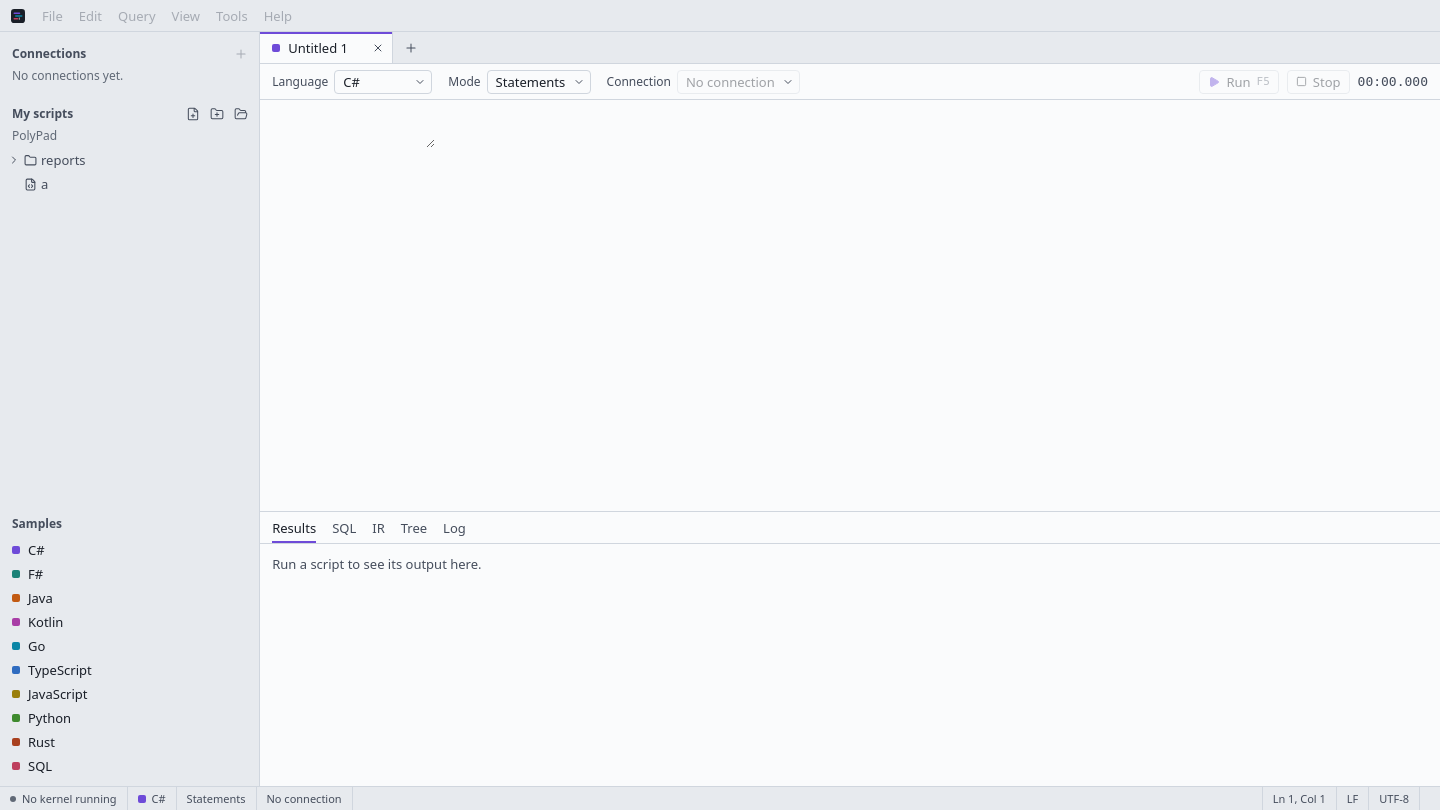
it: the scripts folder › moves a script into a folder chosen in a dialog
This screenshot has width=1440, height=810.
Clear the text box named "Editor text" at (348, 128), box 260,108 -> 435,148
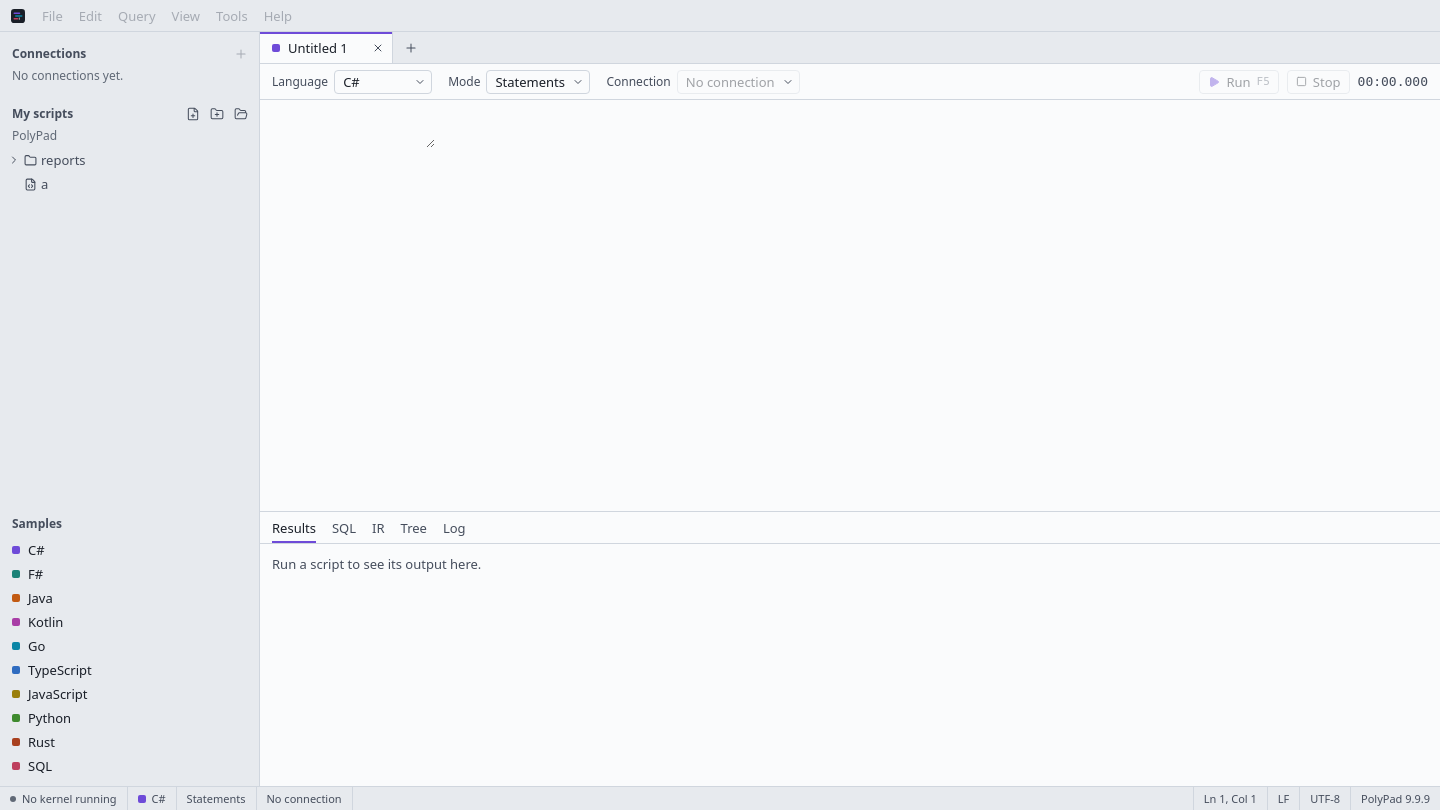
Expected: the element named "Open scripts" is shown, 260,32 -> 393,63
Right-click the list item "a" at (36, 184), box 24,175 -> 48,193
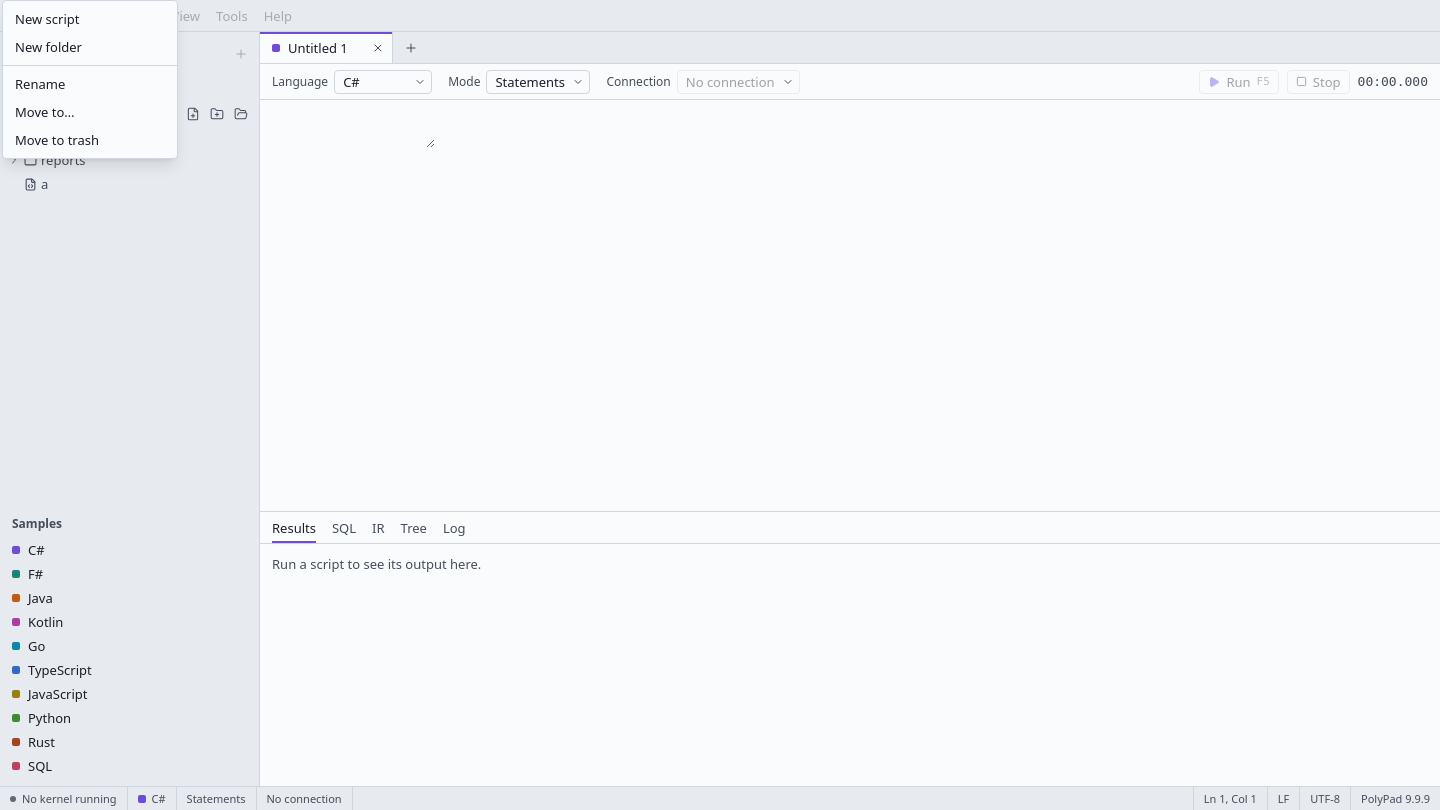
Click the menu item "Move to…" at (45, 112), box 15,103 -> 75,121
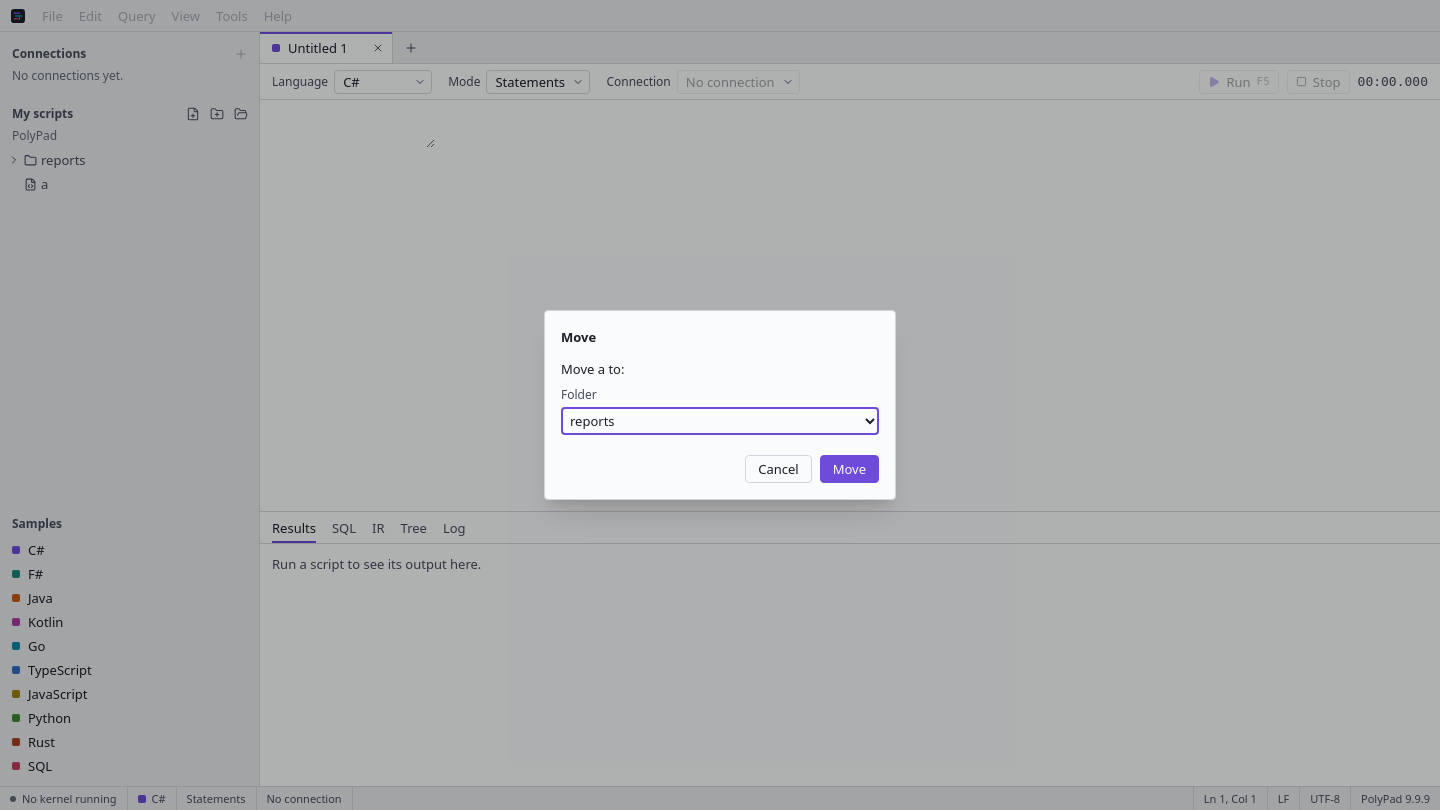
Now the text "Move a to:" is shown, box 561,360 -> 624,378
Select "reports" in the dropdown labelled "Folder" at (720, 421), box 561,407 -> 879,435
Click the button "Move" at (849, 469), box 820,455 -> 879,483
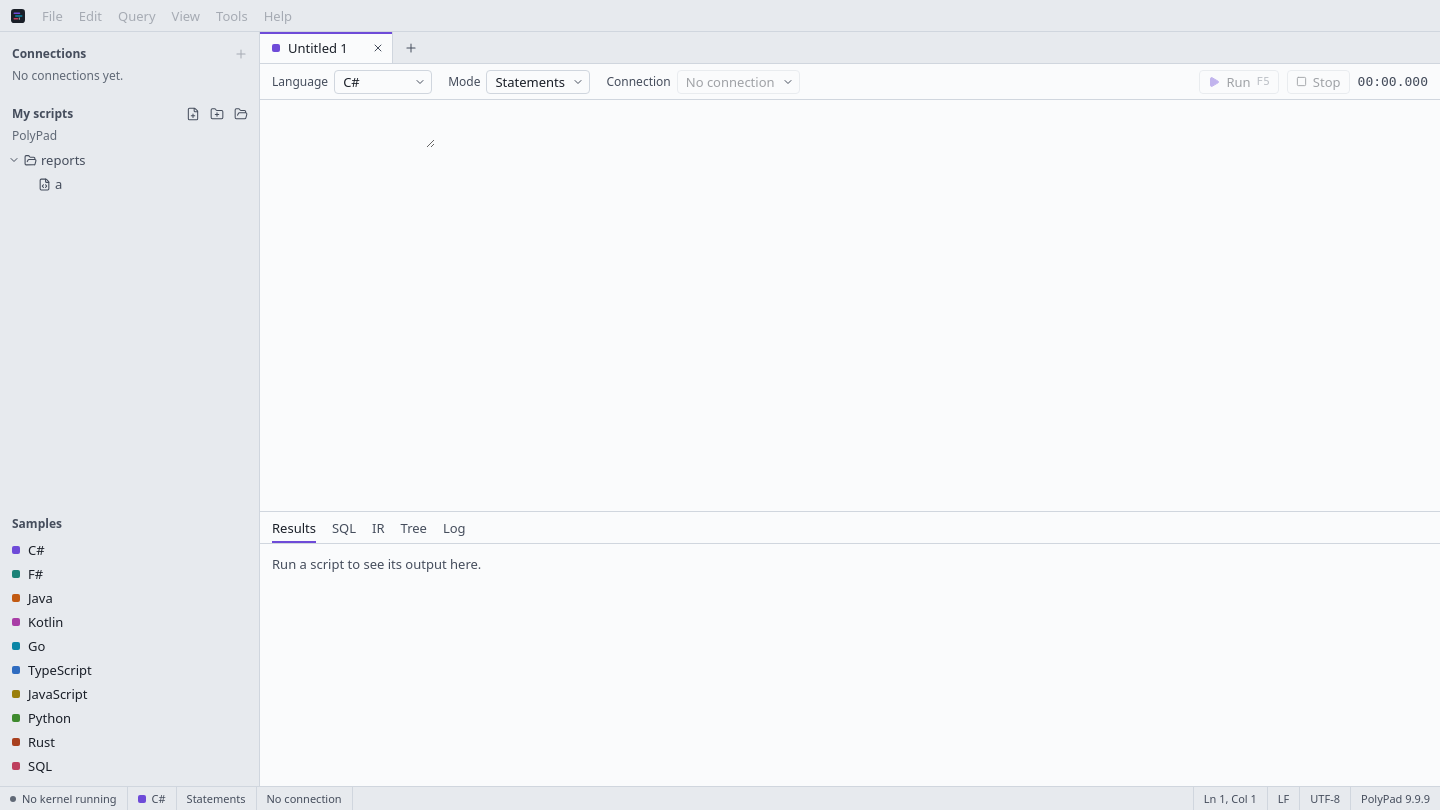
Now the dialog is gone
